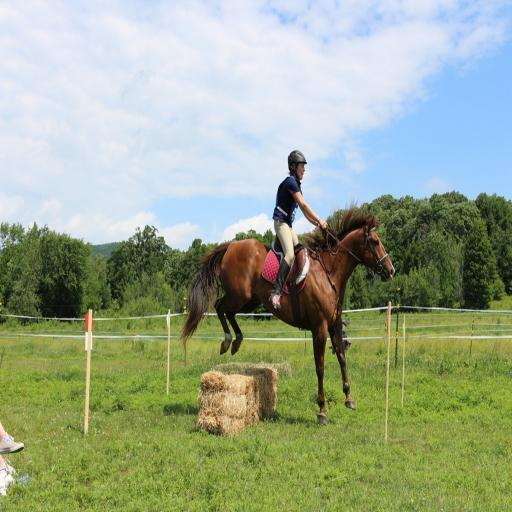horse: (179, 196, 397, 432)
